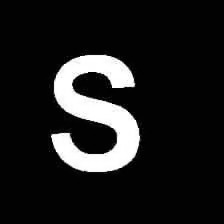LTR_S: (42, 44, 146, 182)
